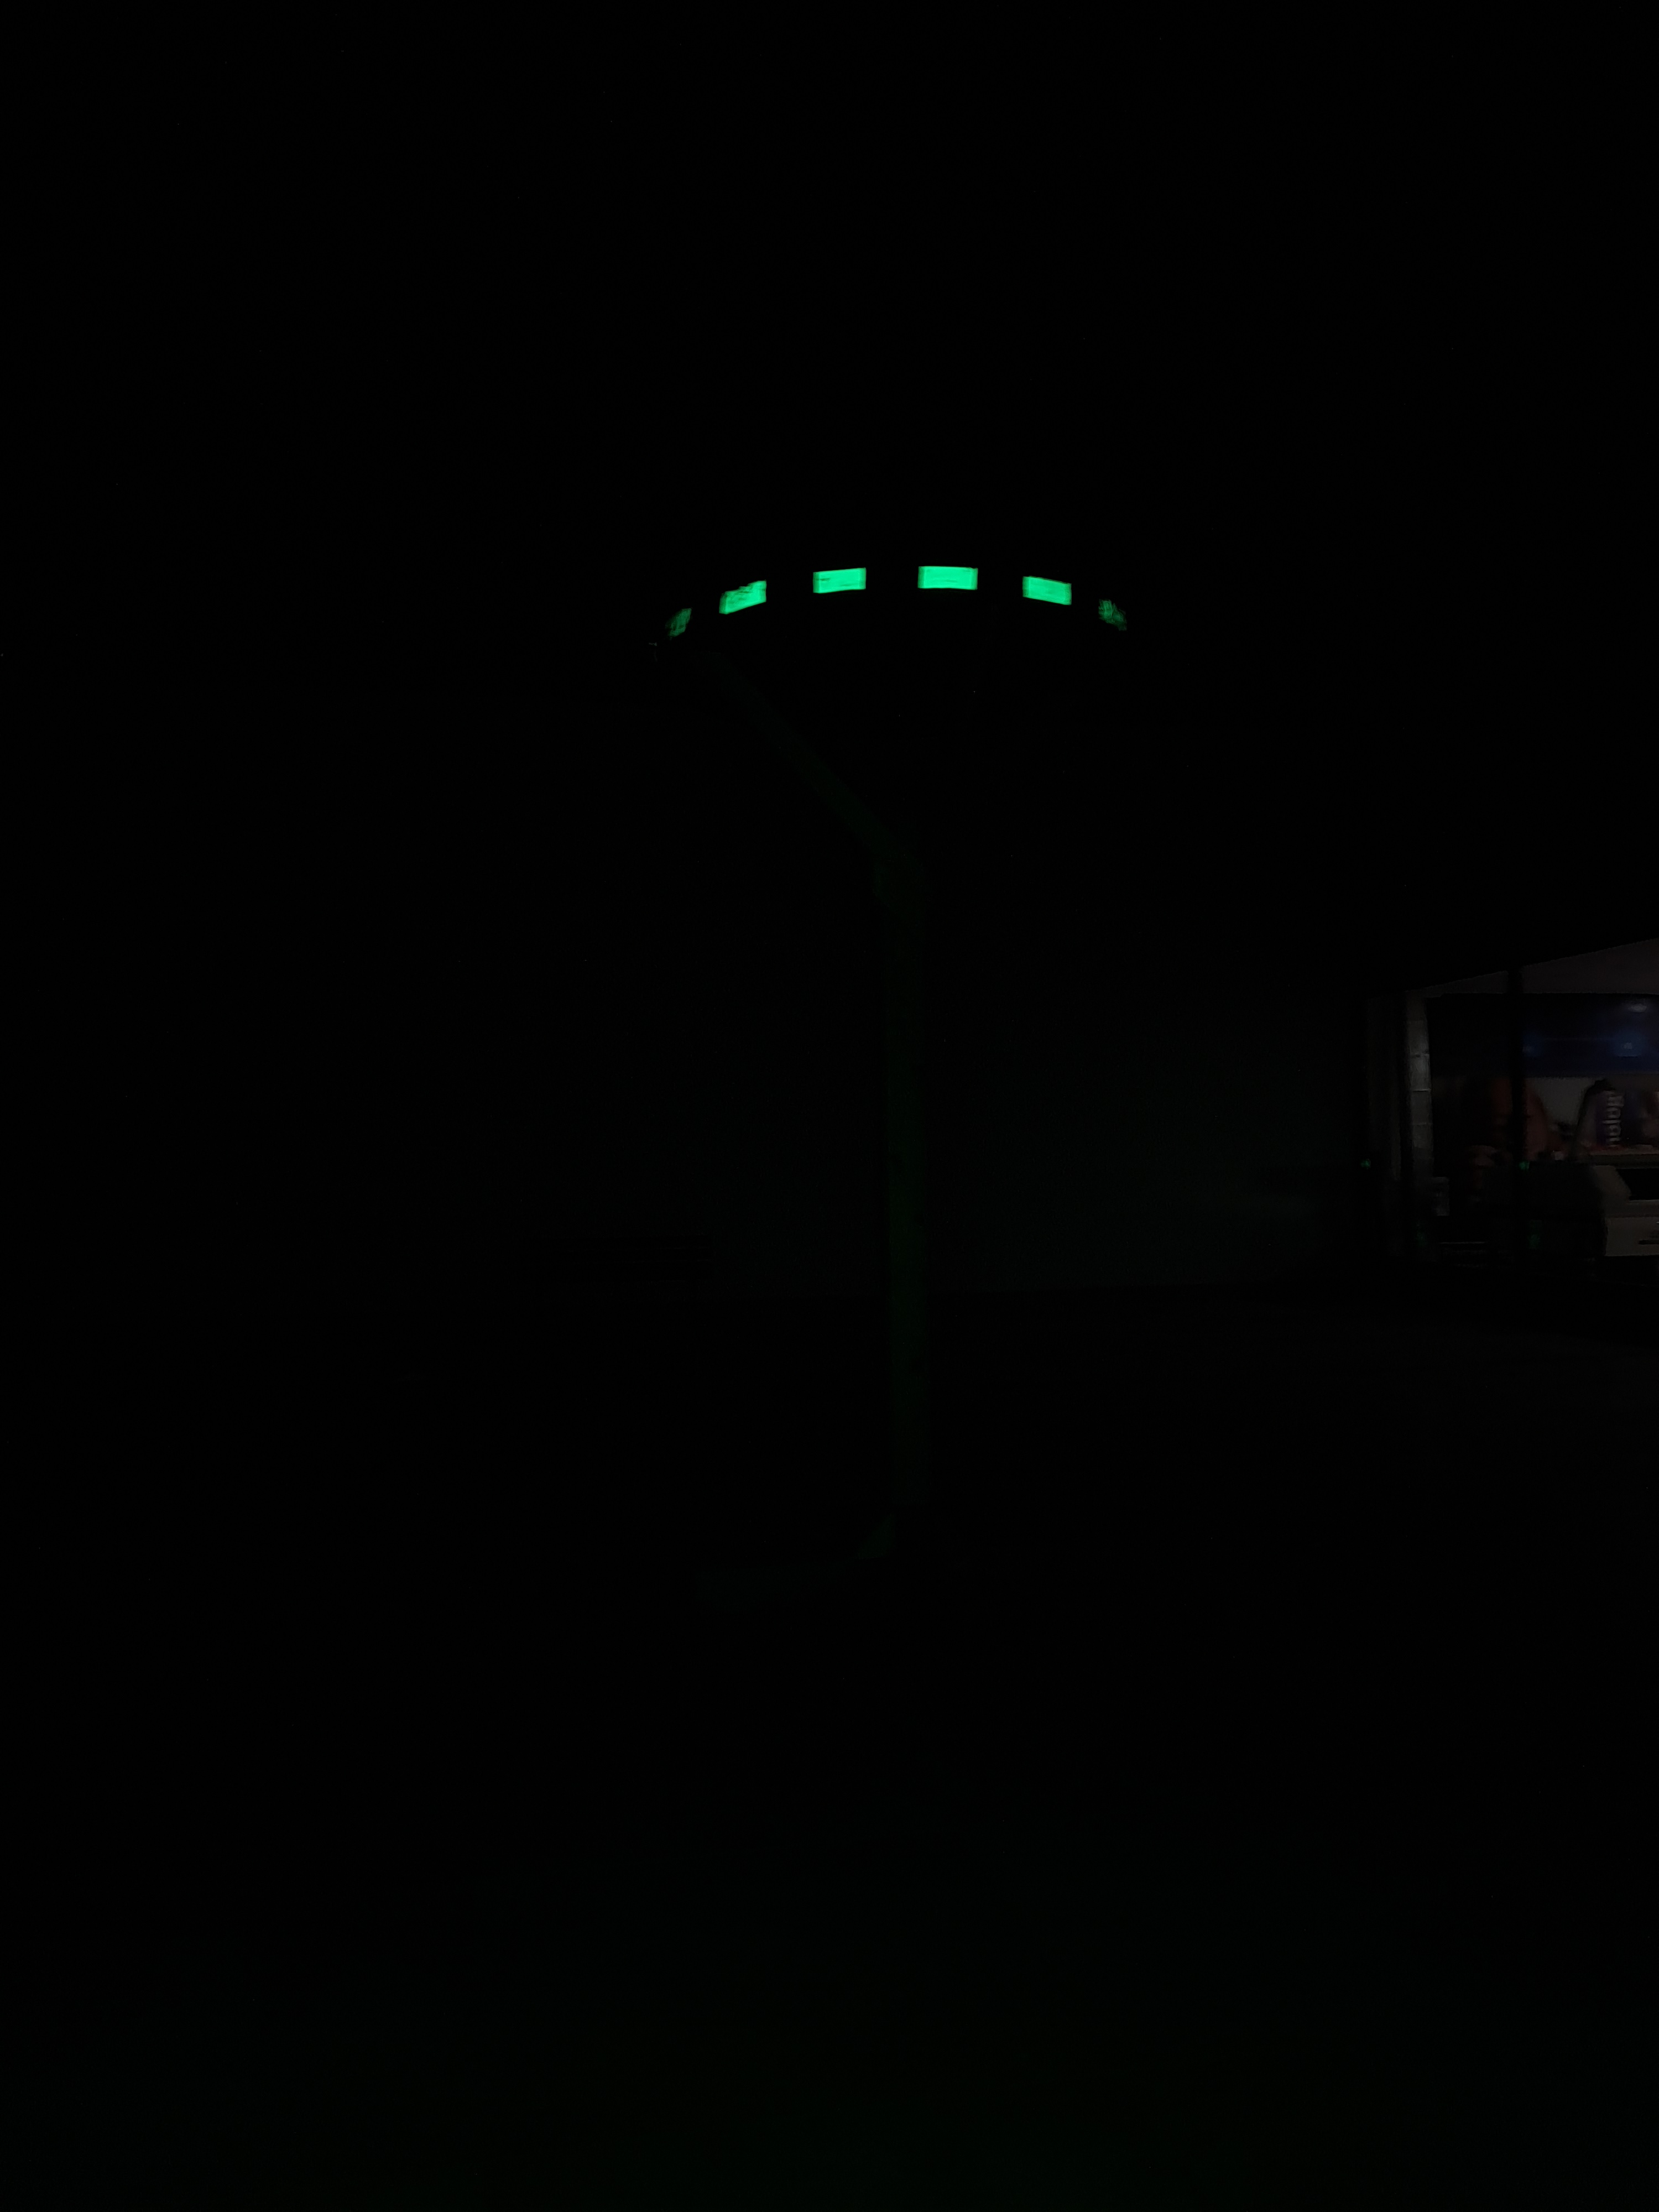hoop: (631, 550, 1164, 658)
